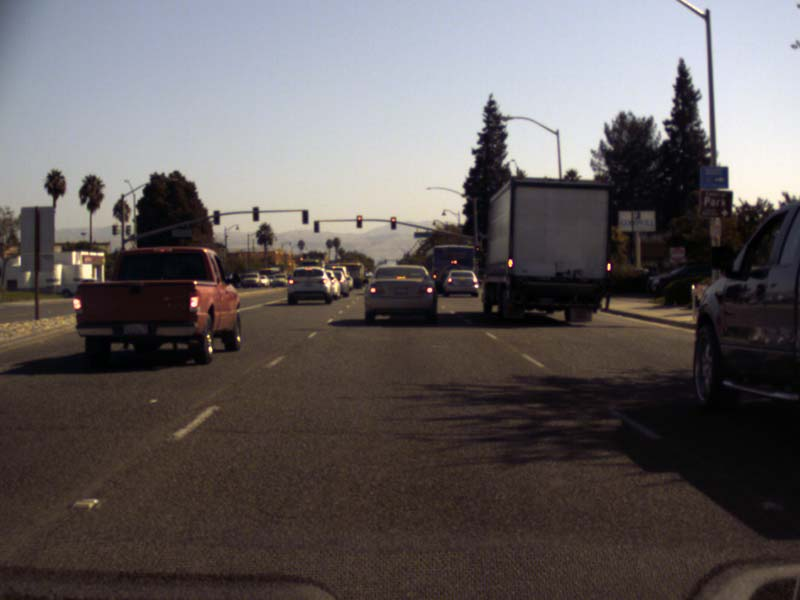Red: (356, 214, 362, 228), (474, 246, 480, 258), (391, 216, 396, 229)
